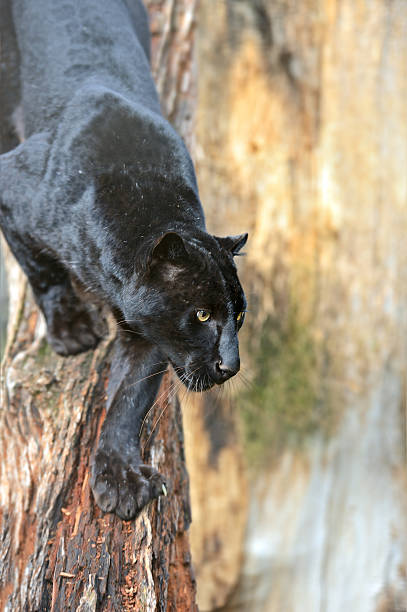panther: (132, 218, 263, 419)
